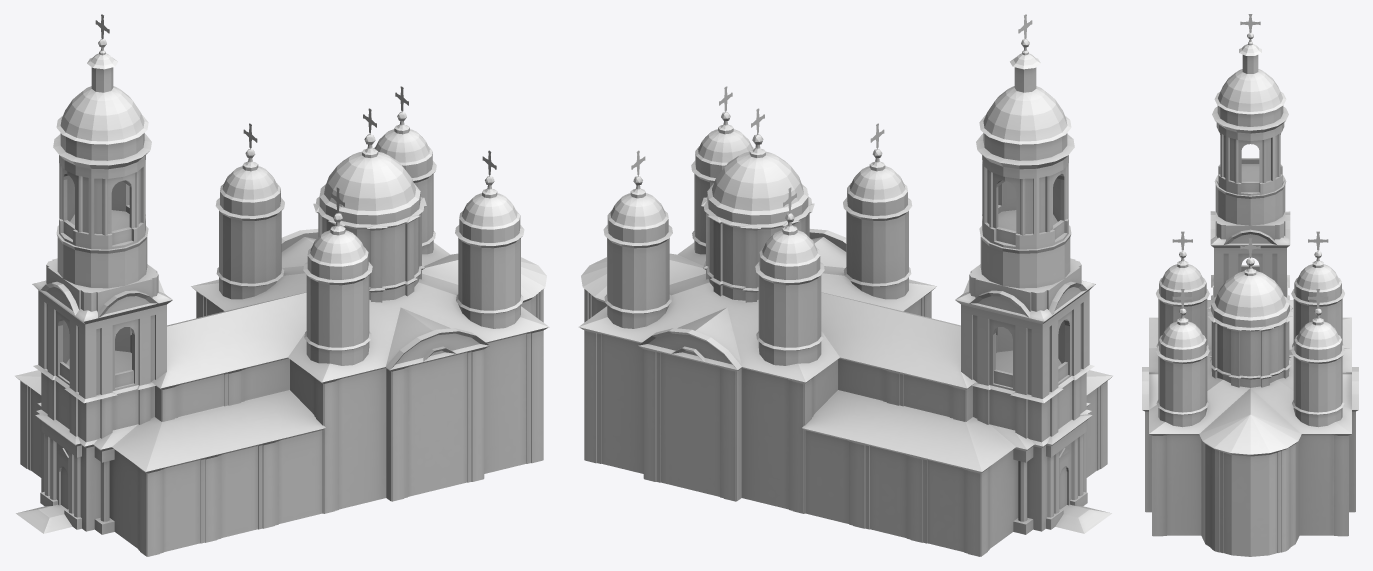
The model's file is stvladimircathedral.dae.
The picture shows the model from 3 angles, left to right: view 1: azimuth 30°, elevation 25°; view 2: azimuth 150°, elevation 25°; view 3: azimuth 270°, elevation 25°; orthographic projection. The views are drawn at different scales.
Parts seen in each view (by area): view 1: stvladimircathedral; view 2: stvladimircathedral; view 3: stvladimircathedral.
Part boxes in pixels (box(x1,y1,x2,y2)): stvladimircathedral: box(15, 14, 548, 556); stvladimircathedral: box(579, 14, 1112, 556); stvladimircathedral: box(1142, 14, 1358, 556).
Size of the model in its own units: 0.0922 by 0.0439 by 0.0849.
Materials: 1 (1 with a texture image).
